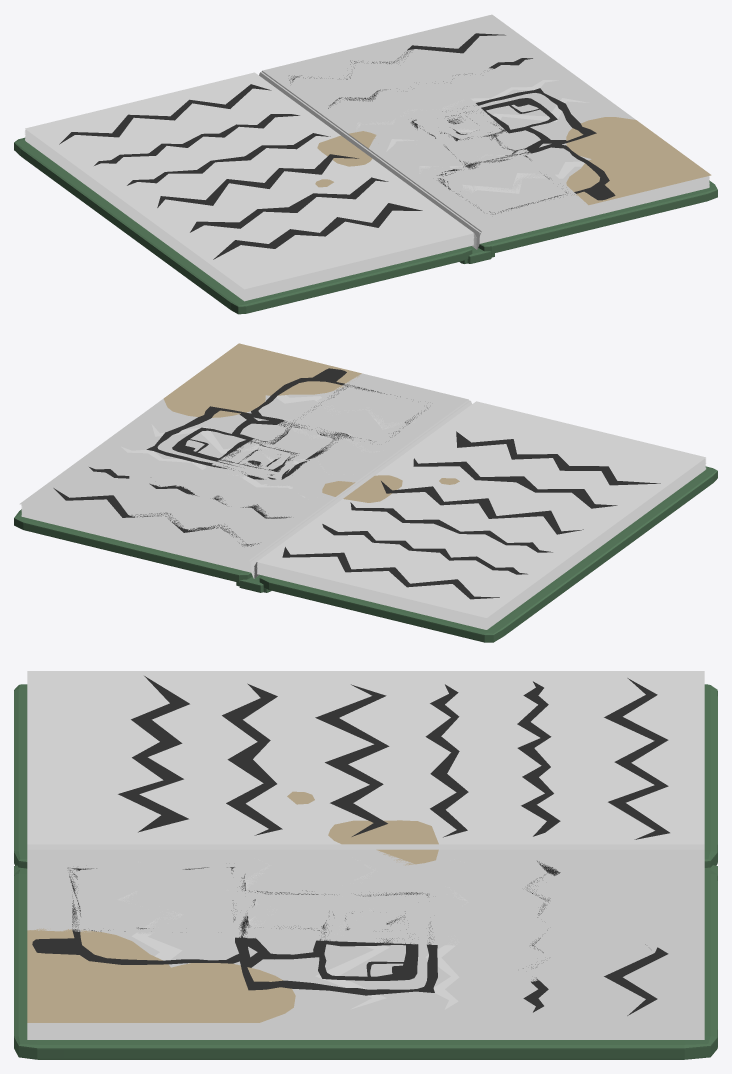
Rendered from Book.fbx.
The picture shows the model from 3 angles, top to bottom: view 1: azimuth 30°, elevation 25°; view 2: azimuth 150°, elevation 25°; view 3: azimuth 270°, elevation 25°; orthographic projection. The views are drawn at different scales.
Visible parts, largest first — view 1: Plane.030; view 2: Plane.030; view 3: Plane.030.
Boxes of the visible parts, <box> form: Plane.030: <box>14,14,717,314</box>; Plane.030: <box>14,343,717,642</box>; Plane.030: <box>14,671,717,1059</box>.
Size of the model in its own units: 163 by 8.54 by 133.
